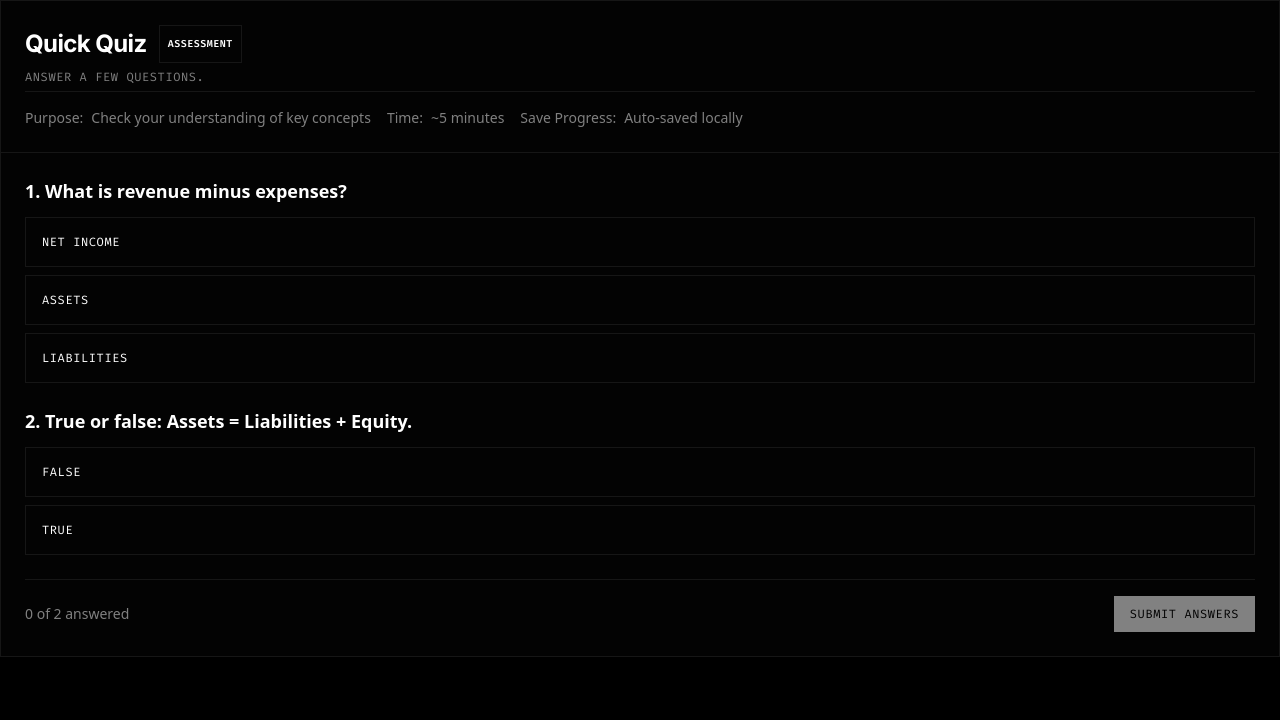
Scenario: ComprehensionCheck › submits answers and reports score
Click the button "Net Income" at point(81, 242), box [25,217,1255,267]
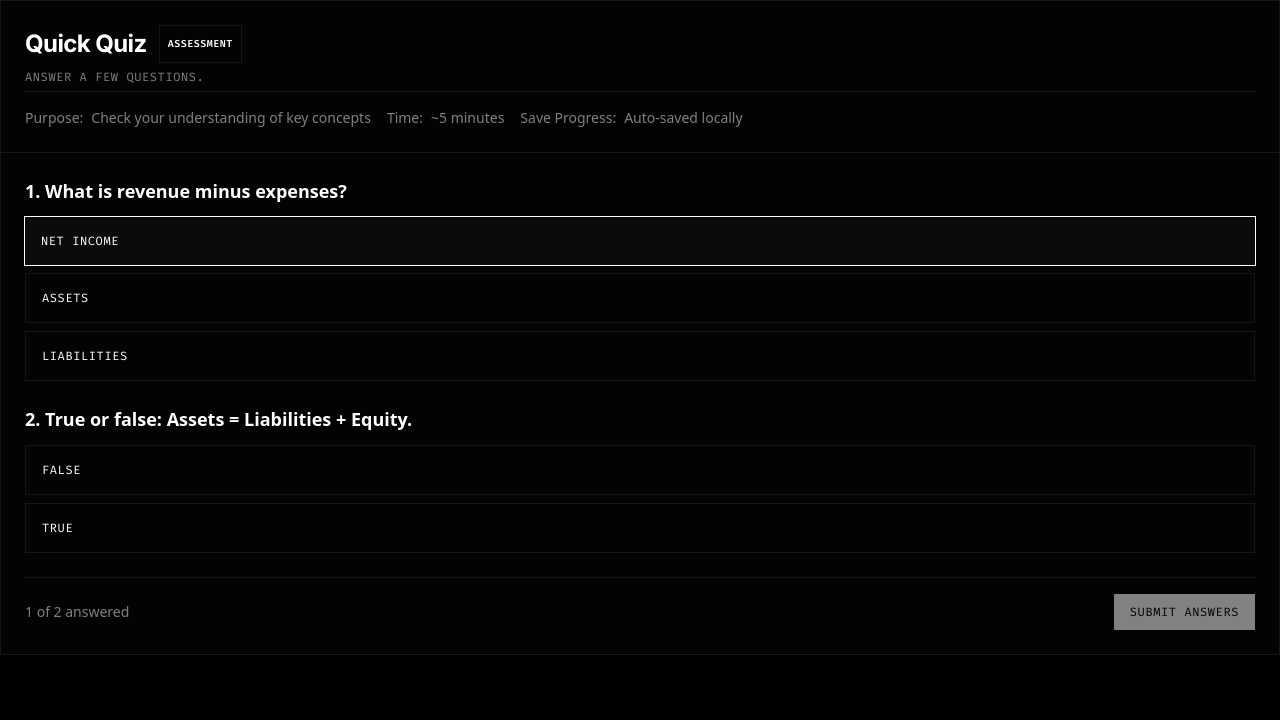
Click the button "True" at point(58, 528), box [25,503,1255,553]
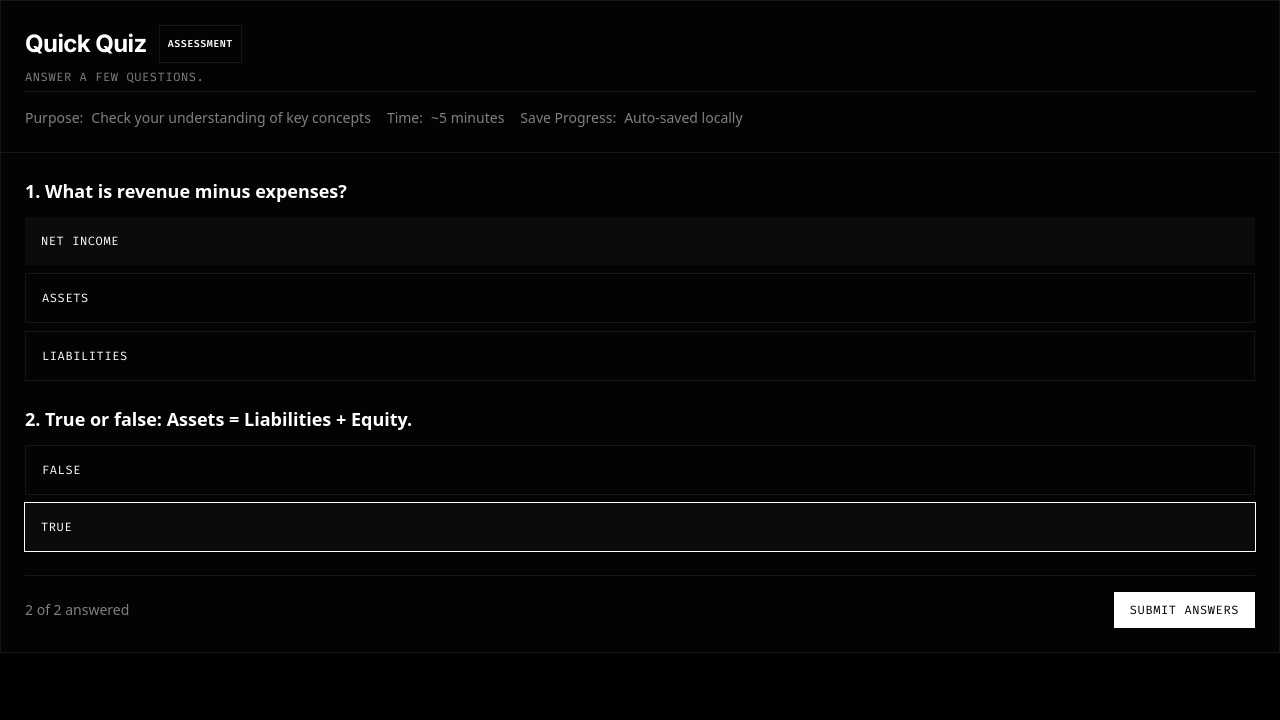
Click the button "Submit answers" at point(1184, 610), box [1114,592,1255,628]
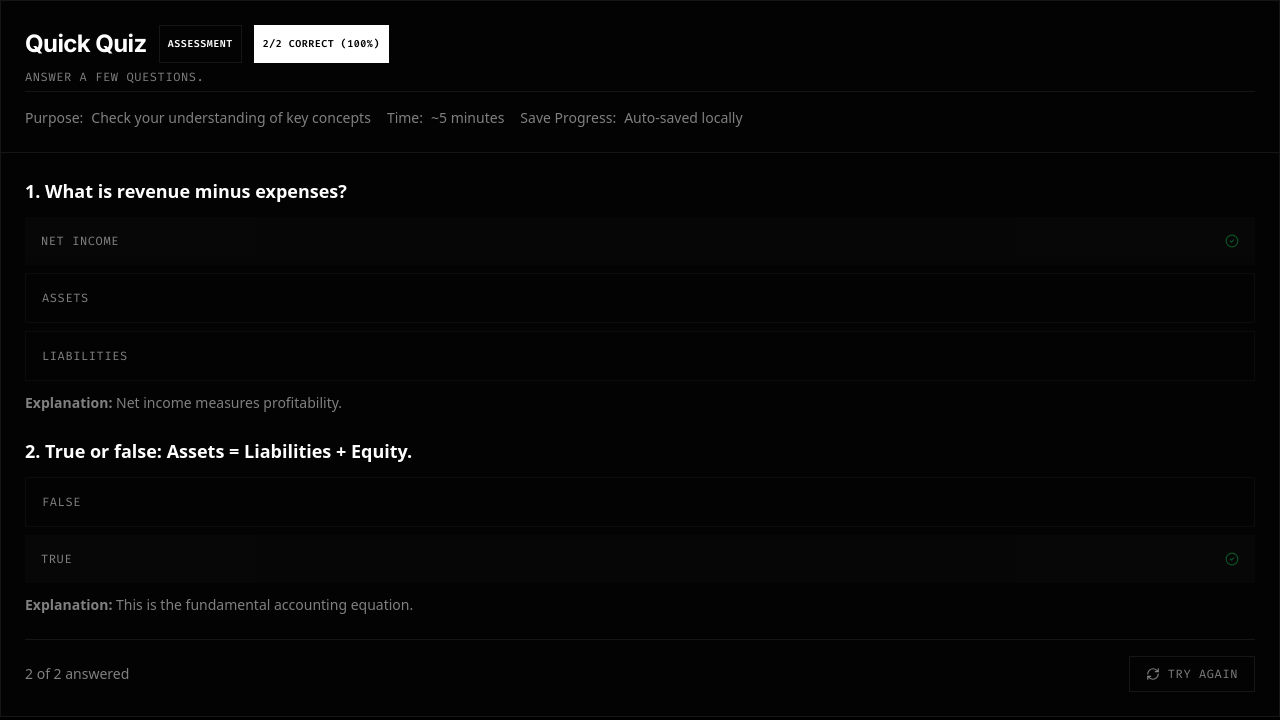
Now the text "2/2 correct (100%)" is shown, box [254,25,389,63]
